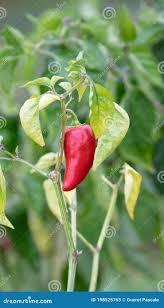Buah Cabai Sehat: (60, 123, 96, 191)
